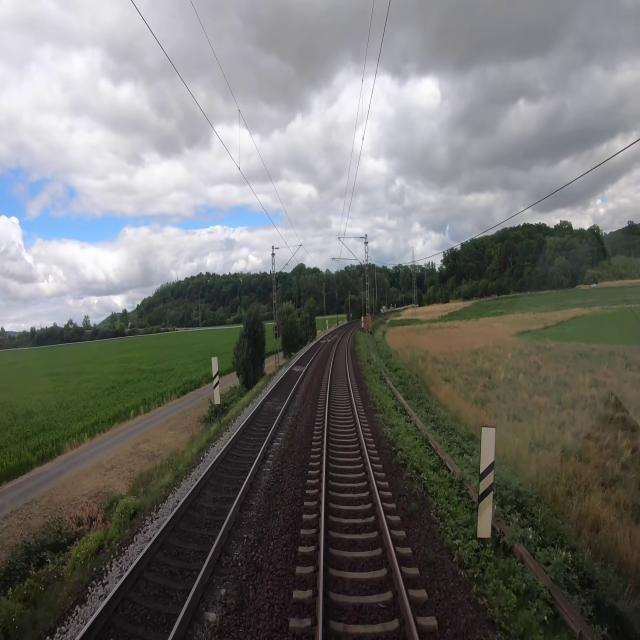Plant: (374, 412, 422, 497), (353, 343, 377, 409), (420, 547, 434, 583), (410, 500, 421, 521), (214, 617, 223, 636), (290, 431, 294, 439)
